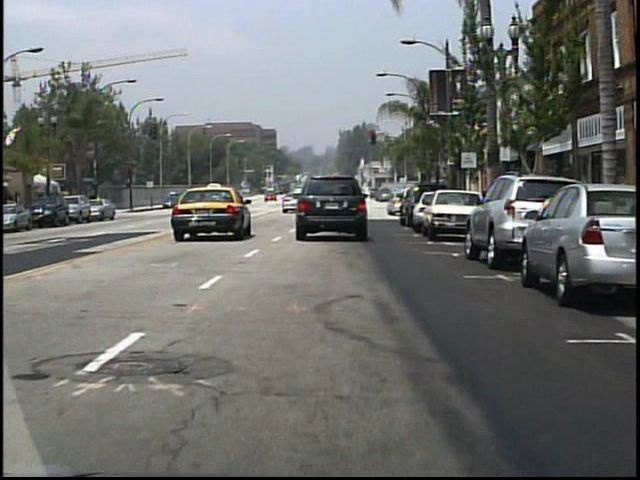person: (340, 189, 355, 213), (208, 188, 222, 212)
